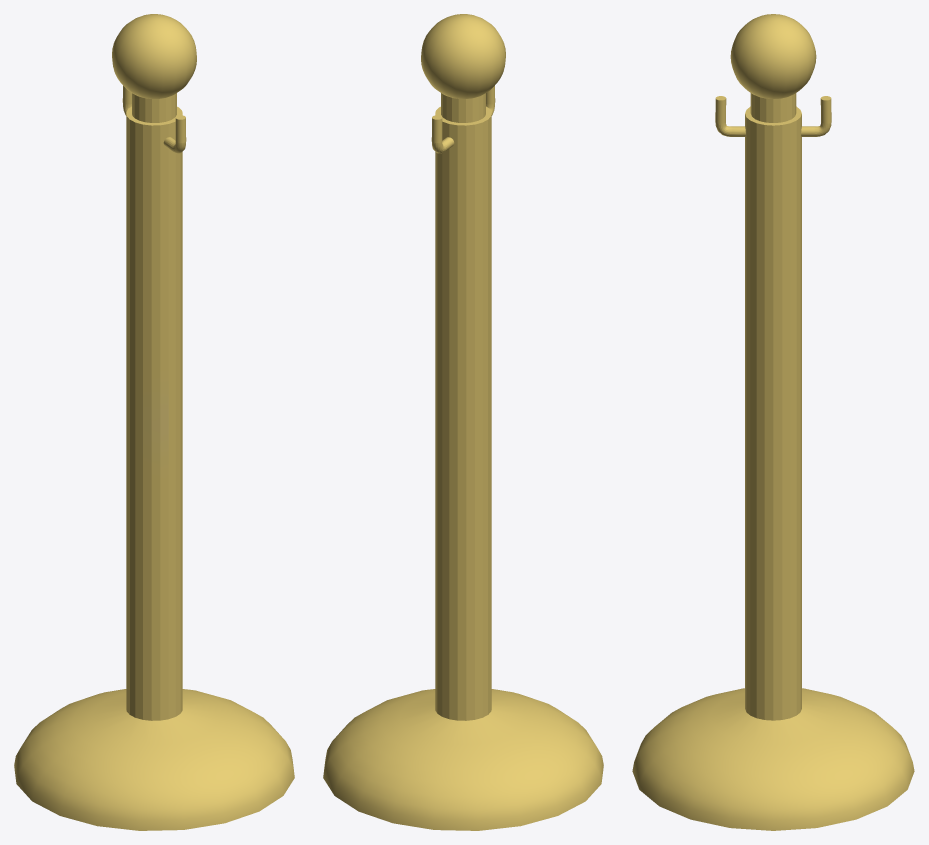
Rendered from porl_standard.fbx.
The picture shows the model from 3 angles, left to right: view 1: azimuth 30°, elevation 25°; view 2: azimuth 150°, elevation 25°; view 3: azimuth 270°, elevation 25°; orthographic projection.
Visible parts, largest first — view 1: polySurface5; view 2: polySurface5; view 3: polySurface5.
Part boxes in pixels (<box>): polySurface5: <box>14,14,294,830</box>; polySurface5: <box>323,14,603,830</box>; polySurface5: <box>632,14,914,830</box>.
Size of the model in its own units: 2 by 5.89 by 2.
